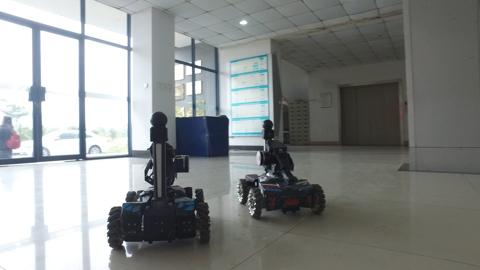chariot: (97, 107, 220, 251), (234, 118, 330, 224)
